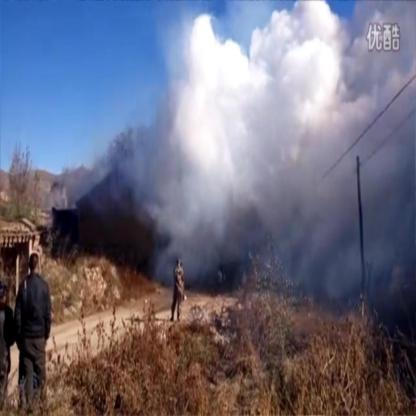smoke: (183, 122, 412, 228), (261, 4, 342, 120), (126, 125, 183, 230), (163, 18, 218, 121), (294, 228, 368, 296), (219, 39, 258, 123), (372, 54, 414, 119), (162, 232, 218, 280), (344, 15, 369, 120)
